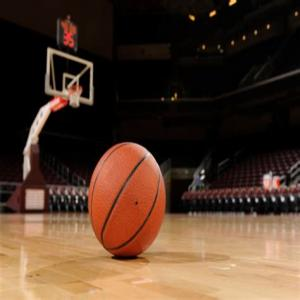Basket: (87, 140, 168, 257)
